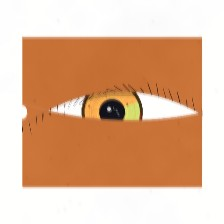hemorrhage_spot: (79, 84, 149, 140)
